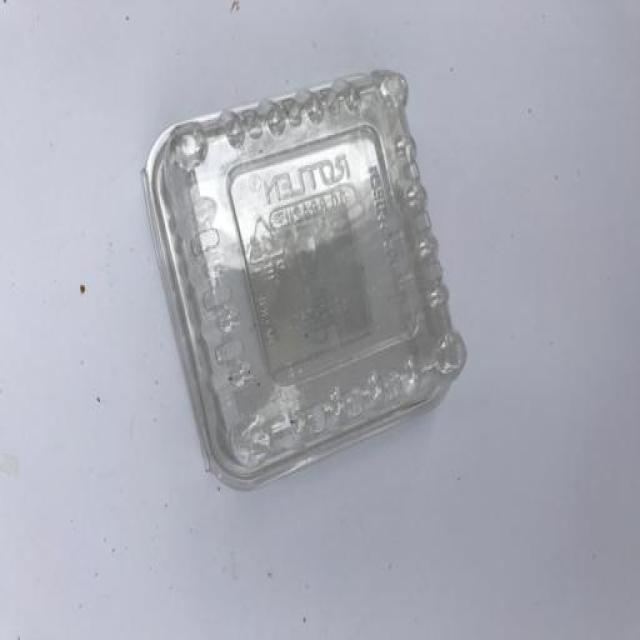Plastic: (141, 72, 469, 490)
